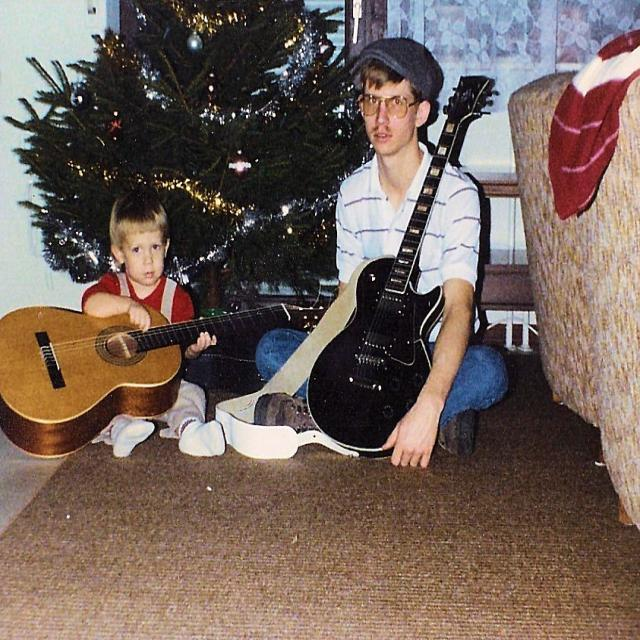guitar: (307, 76, 499, 457), (0, 306, 331, 457)
